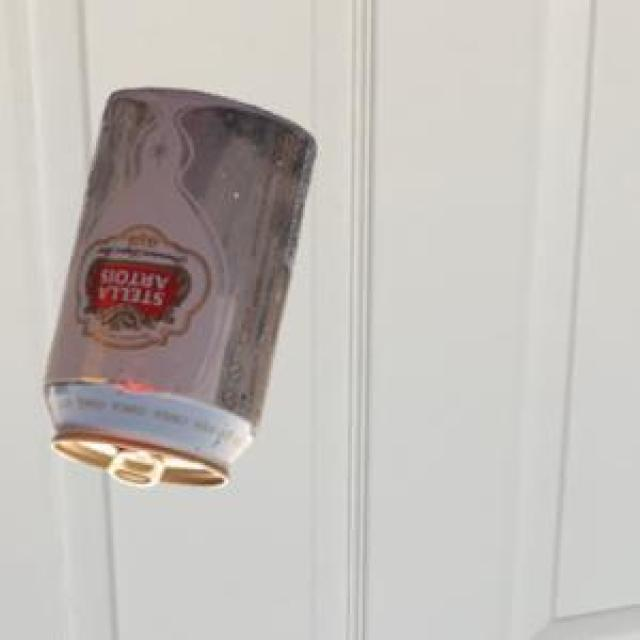logam: (42, 86, 313, 483)
